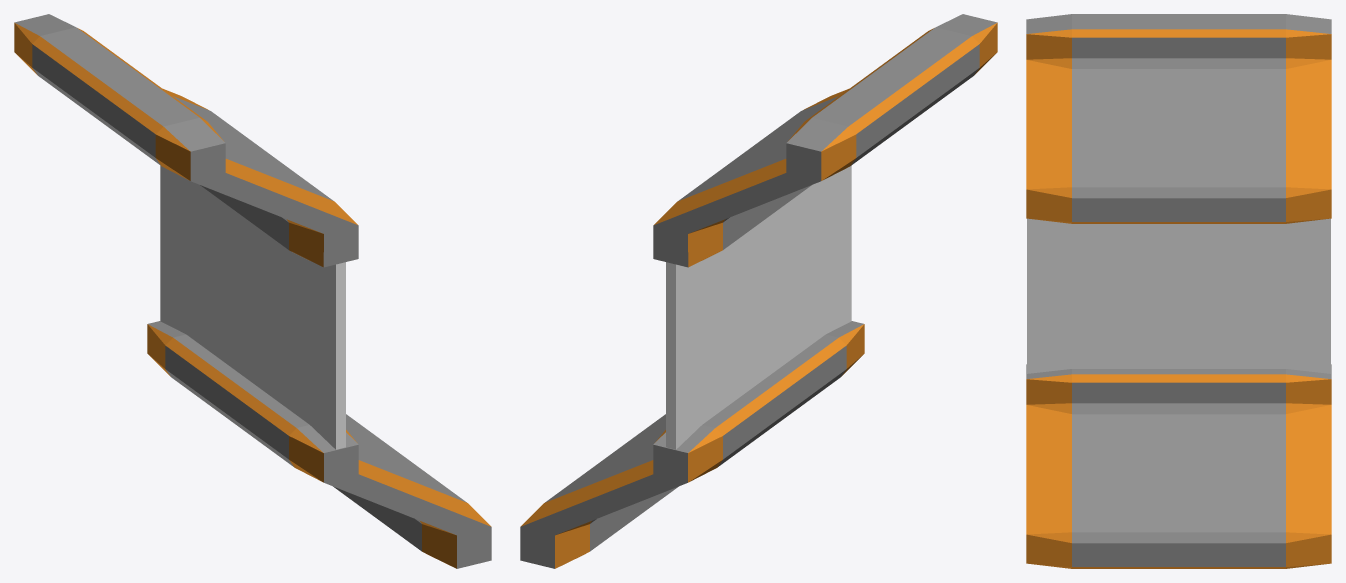
File: inclined wall.fbx
3 views of the same model, side by side, from view 1: azimuth 30°, elevation 25°; view 2: azimuth 150°, elevation 25°; view 3: azimuth 270°, elevation 25° (orthographic). The views are drawn at different scales.
Parts seen in each view (by area): view 1: Cube.004; view 2: Cube.004; view 3: Cube.004.
Part boxes in pixels (x1,y1,x2,y2): Cube.004: (14,14,491,568); Cube.004: (520,14,997,568); Cube.004: (1026,14,1331,568).
Bounding box in the file's own units: 619 × 919 × 595.
